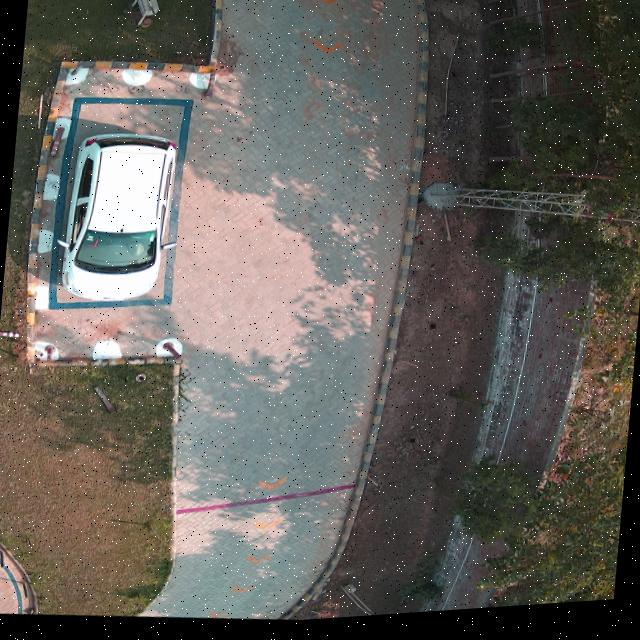car: (60, 134, 175, 302)
